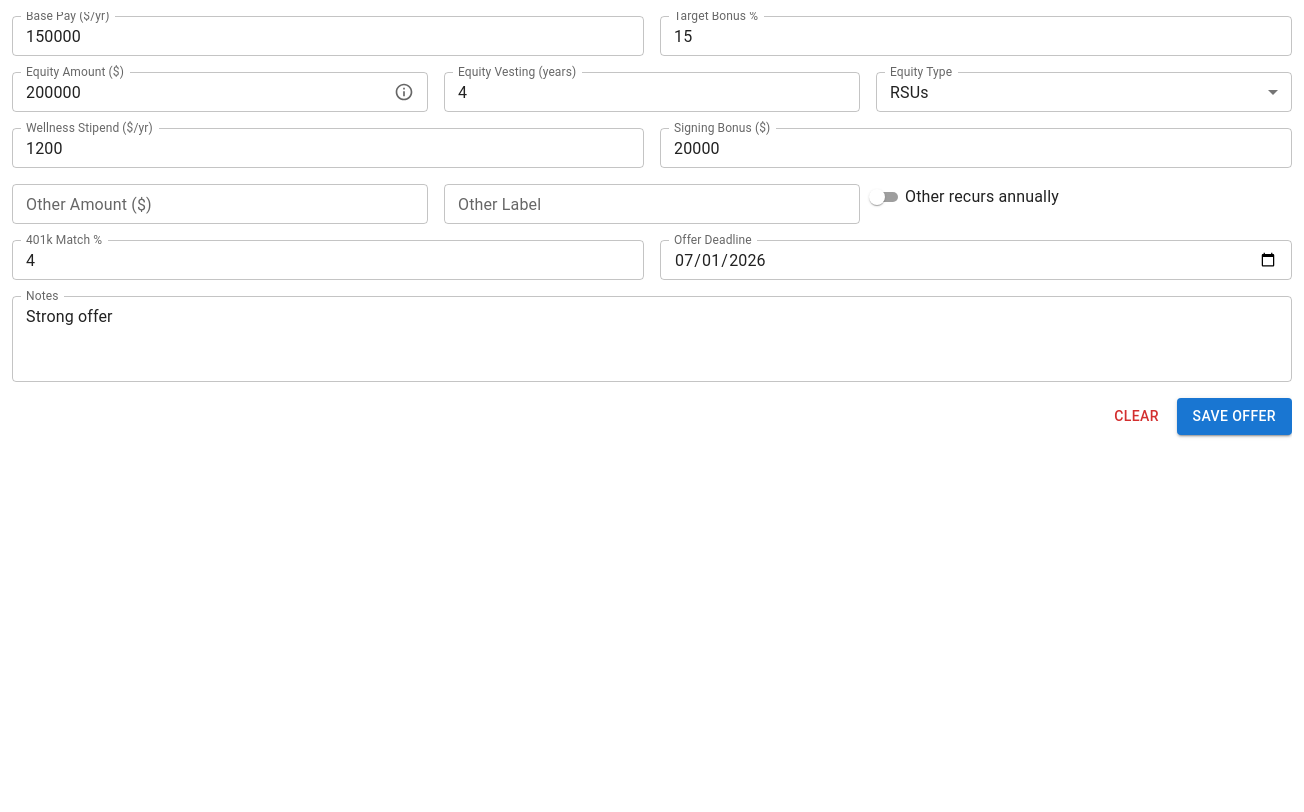
it: offerTab › error handling › shows an error snackbar when clear fails
Click the button "Clear".
click(1137, 416)  # box [1105, 398, 1169, 434]
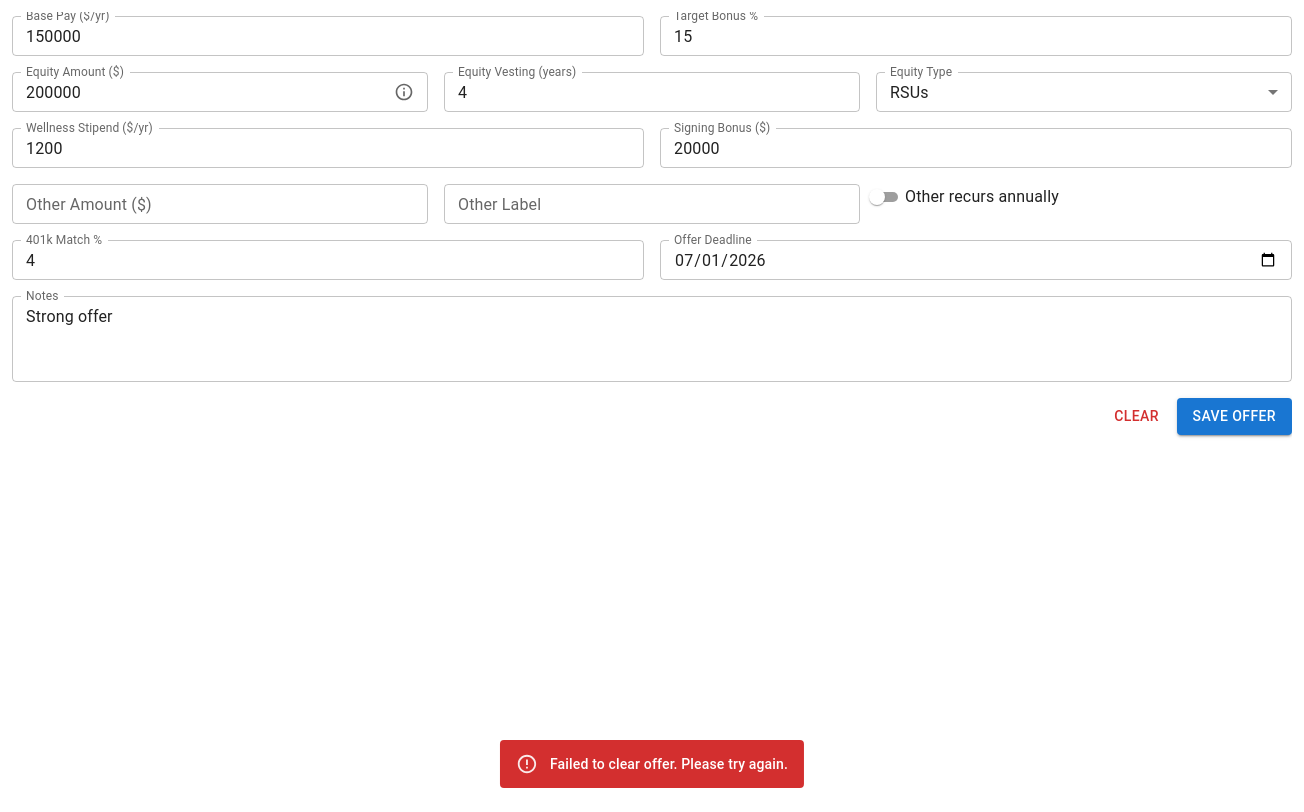
Now the text "Failed to clear offer. Please try again." is shown, box [550, 756, 788, 772]
